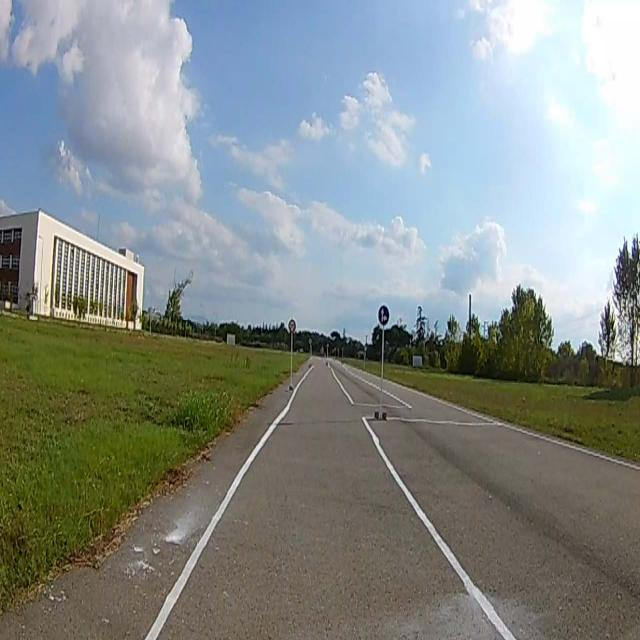ilerisag: (378, 305, 388, 324)
